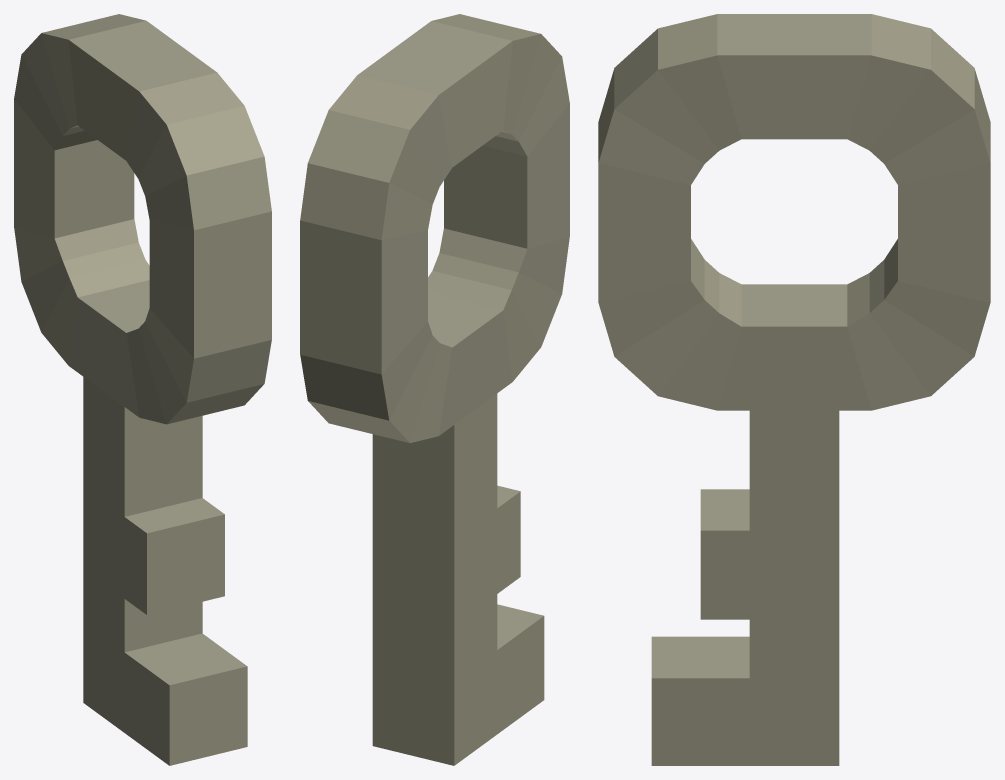
File: Key.glb
The picture shows the model from 3 angles, left to right: view 1: azimuth 30°, elevation 25°; view 2: azimuth 150°, elevation 25°; view 3: azimuth 270°, elevation 25°; orthographic projection. The views are drawn at different scales.
Parts seen in each view (by area): view 1: Cube.008; view 2: Cube.008; view 3: Cube.008.
Boxes of the visible parts, x1,y1,x2,y2 form: Cube.008: (14, 14, 271, 765); Cube.008: (300, 14, 569, 765); Cube.008: (598, 14, 990, 765).
Size of the model in its own units: 0.1538 by 1.2 by 0.6.
